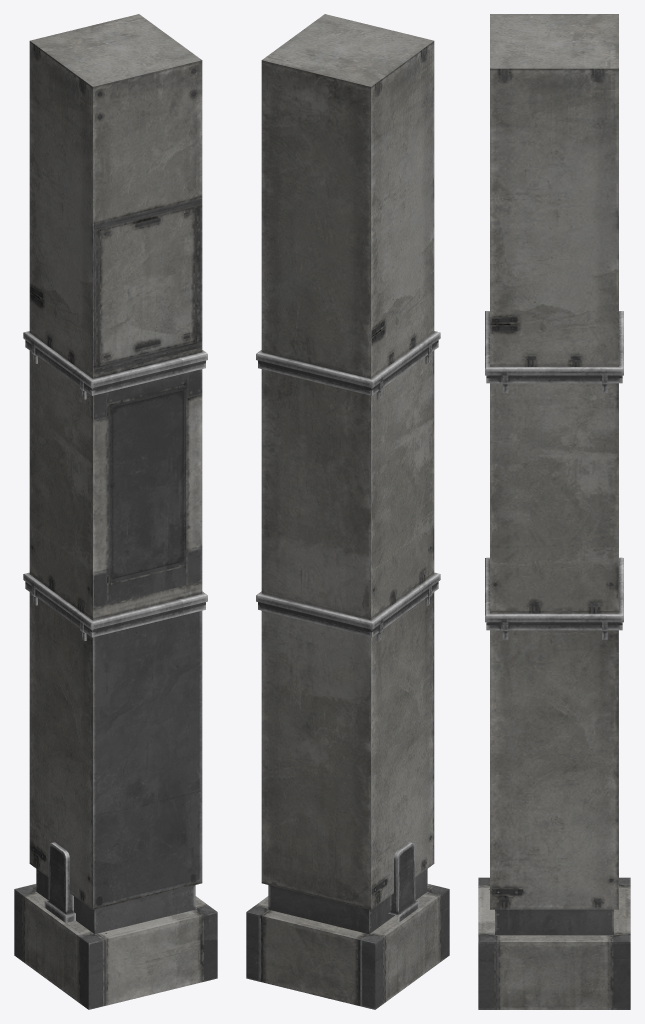
The model's file is CP_Column_Concrete_B_02.fbx.
The picture shows the model from 3 angles, left to right: view 1: azimuth 30°, elevation 25°; view 2: azimuth 150°, elevation 25°; view 3: azimuth 270°, elevation 25°; orthographic projection. The views are drawn at different scales.
Parts seen in each view (by area): view 1: CP_Column_Concrete_B_02_LOD0; view 2: CP_Column_Concrete_B_02_LOD0; view 3: CP_Column_Concrete_B_02_LOD0.
Boxes of the visible parts, x1,y1,x2,y2 form: CP_Column_Concrete_B_02_LOD0: [14, 14, 217, 1009]; CP_Column_Concrete_B_02_LOD0: [246, 14, 449, 1009]; CP_Column_Concrete_B_02_LOD0: [478, 14, 630, 1009].
Size of what is drawn, in the model's own units: 58.9 by 400 by 58.9.
